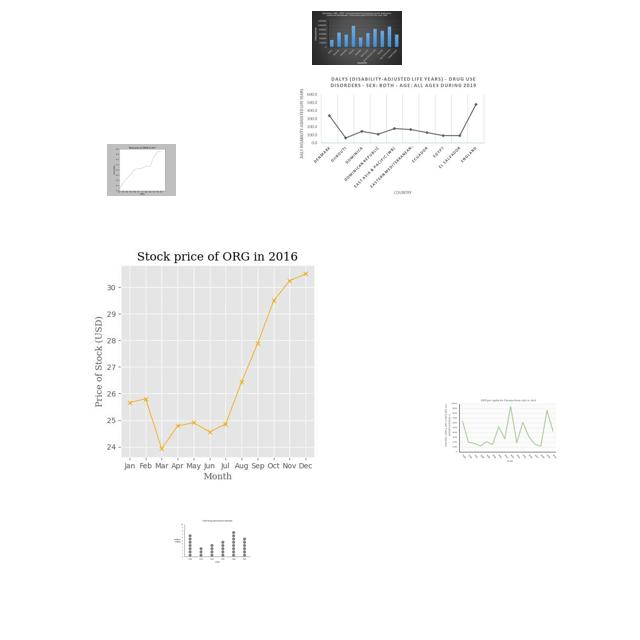Graph: (47, 235, 380, 485), (295, 73, 488, 199), (443, 397, 558, 463), (312, 11, 402, 65), (171, 518, 252, 565), (107, 144, 176, 196)
